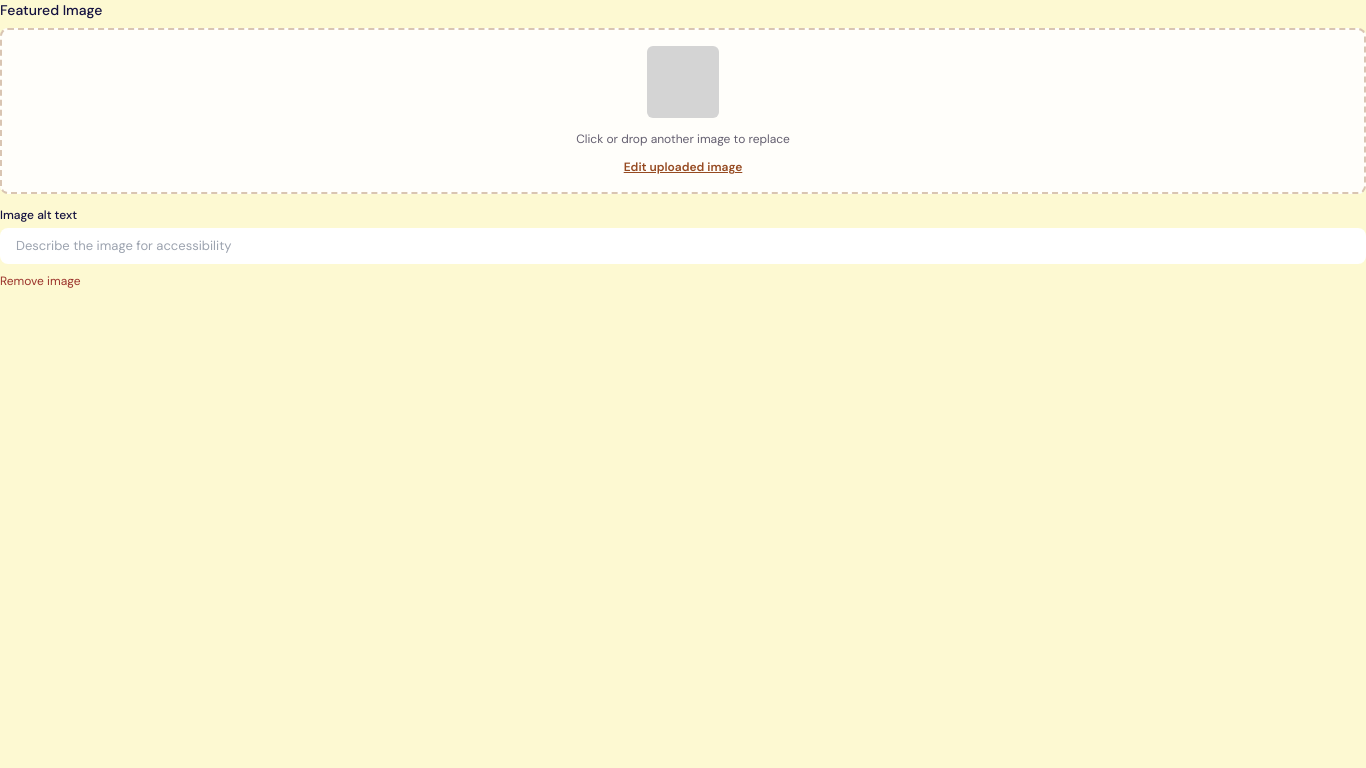
Scenario: ImageUpload › loads an existing upload into the editor for adjustments
This screenshot has width=1366, height=768.
What coordinates should you click on to do the following:
click the button "Edit uploaded image"
I would click on:
 (683, 167)
Its box is [18,158,1348,176].
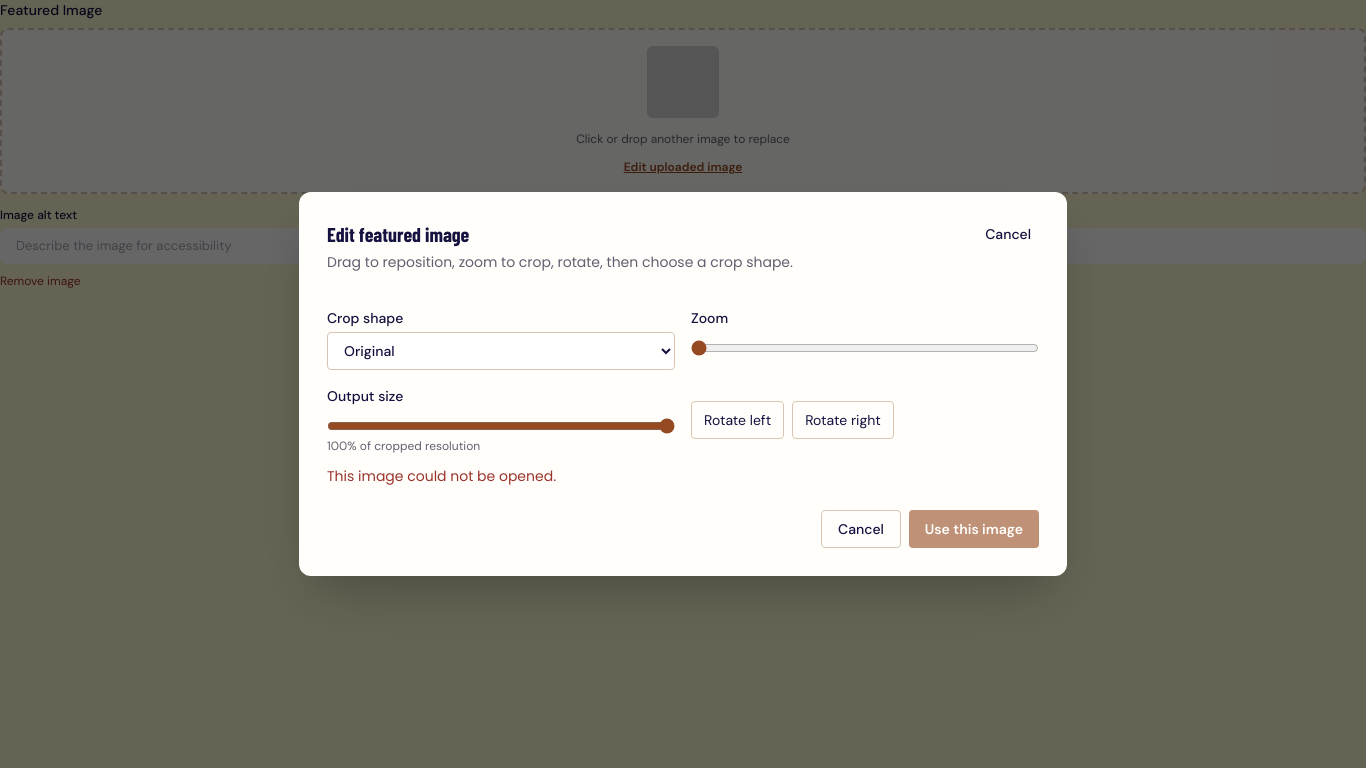
Now the dialog "Edit featured image" is shown, box [299,192,1067,576]
